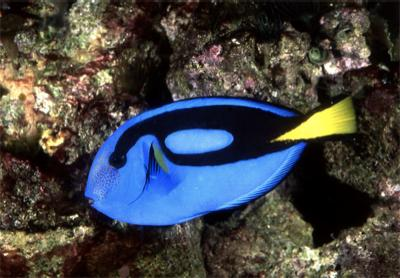Acanthuridae -Surgeonfishes-: (82, 91, 355, 227)
